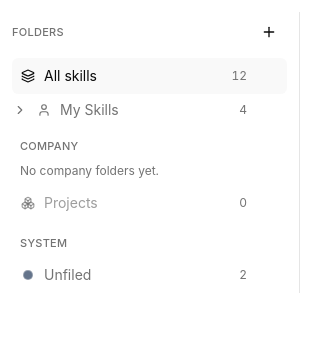
SkillFolderRail › selects and toggles a folder when its row label is clicked
Expected: the text "Ada" is not shown
Click the button "My Skills": (134,110) [36,96,231,124]
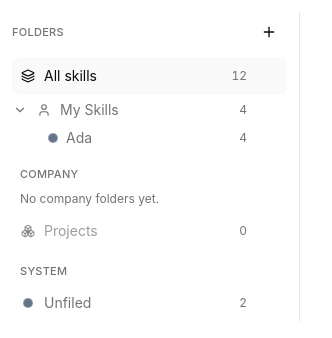
Expected: the button named "Collapse folder" is shown, [12,98,28,122]
Now the text "Ada" is shown, box [66,128,92,148]
